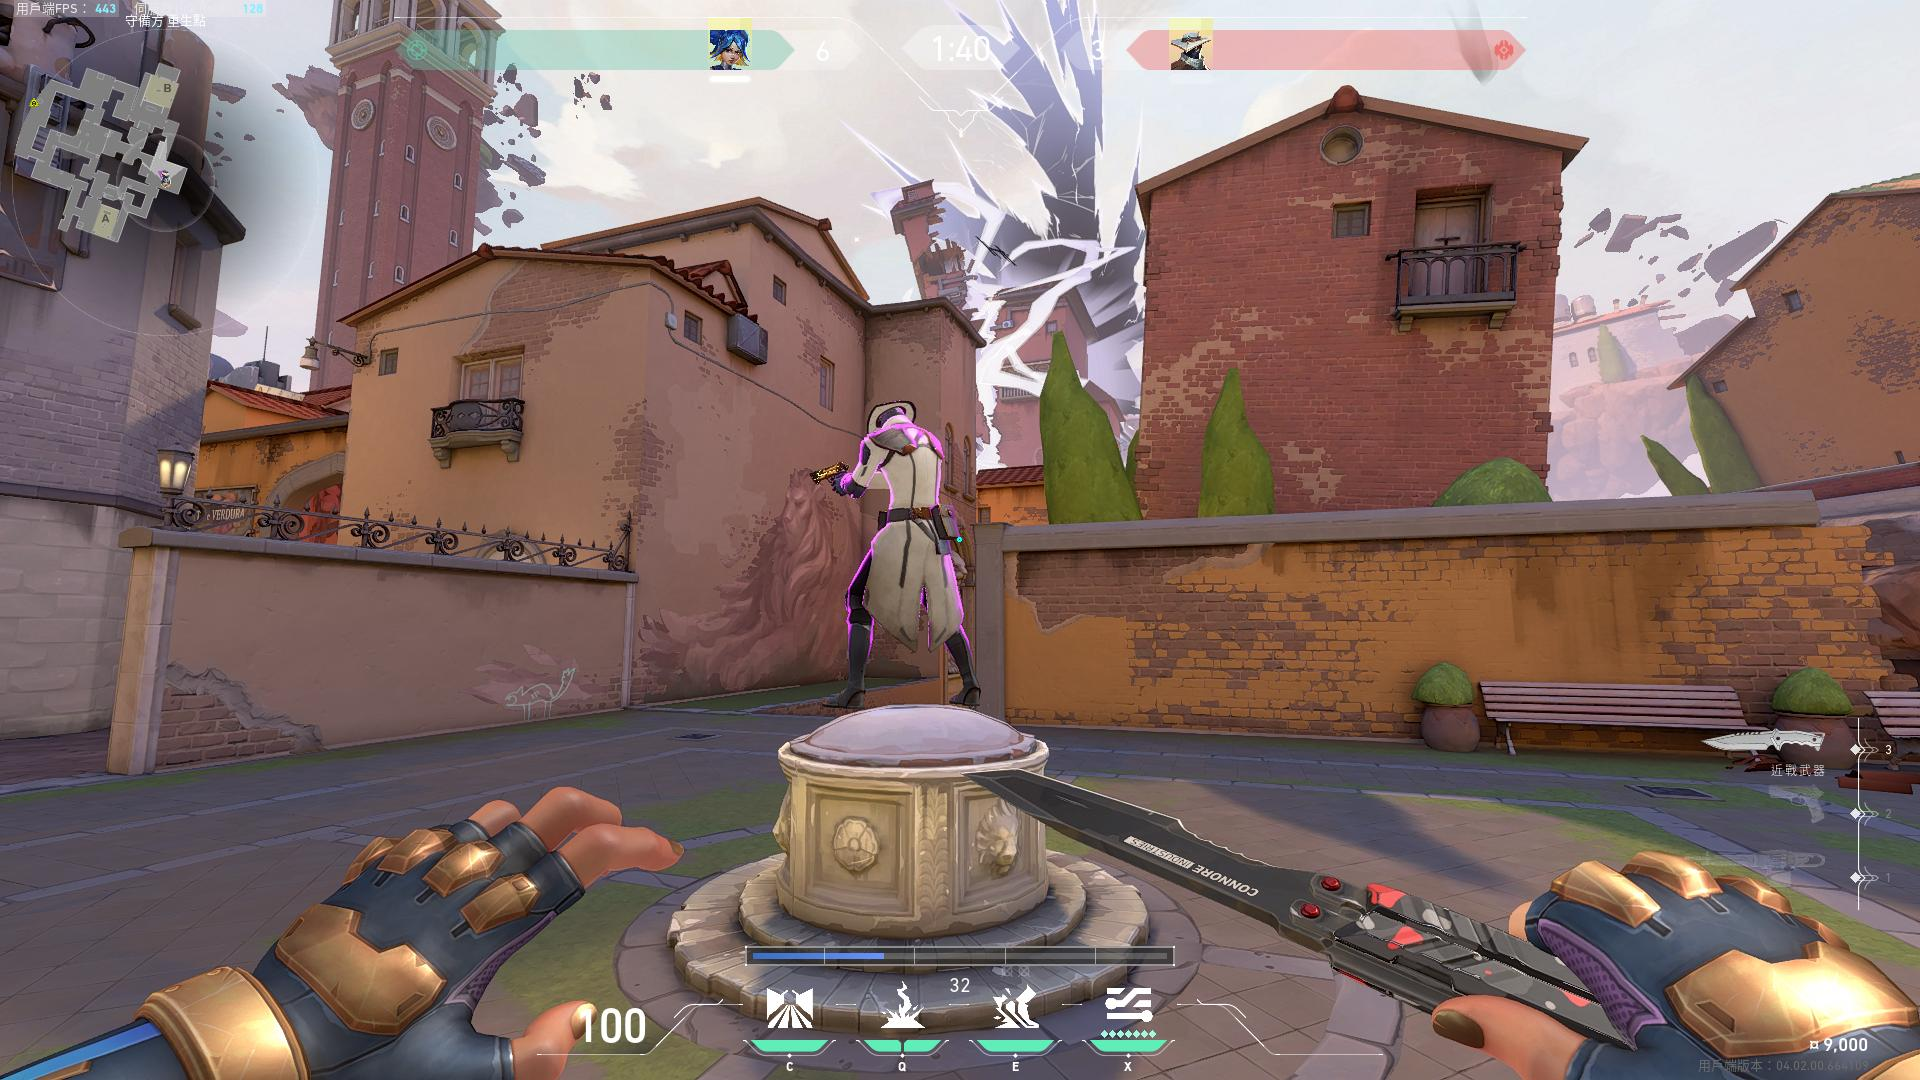enemyBody: (882, 443, 939, 512)
enemyHead: (880, 411, 905, 434)
